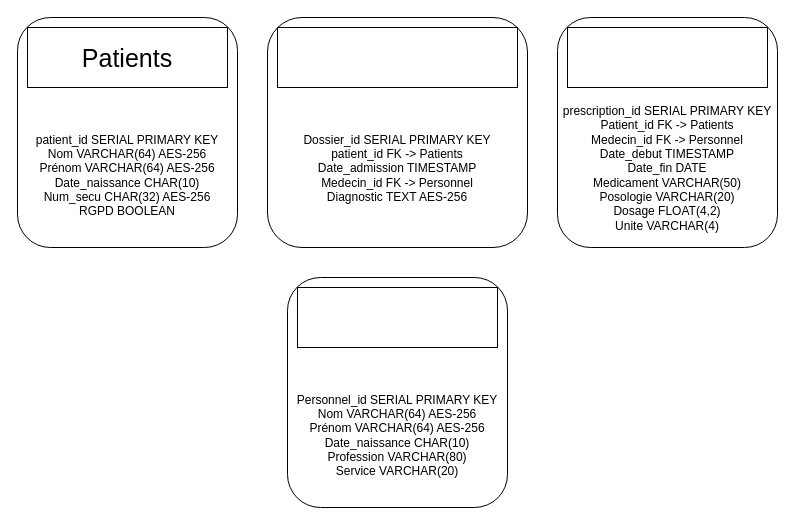
Some shapes in this 795 by 525 pixel diagram are drawn without their labels. Each missing label, with the box of its shape:
Dossiers_medicaux: (276, 26, 518, 88)
Personnel: (296, 286, 498, 348)
Prescriptions: (566, 26, 768, 88)
